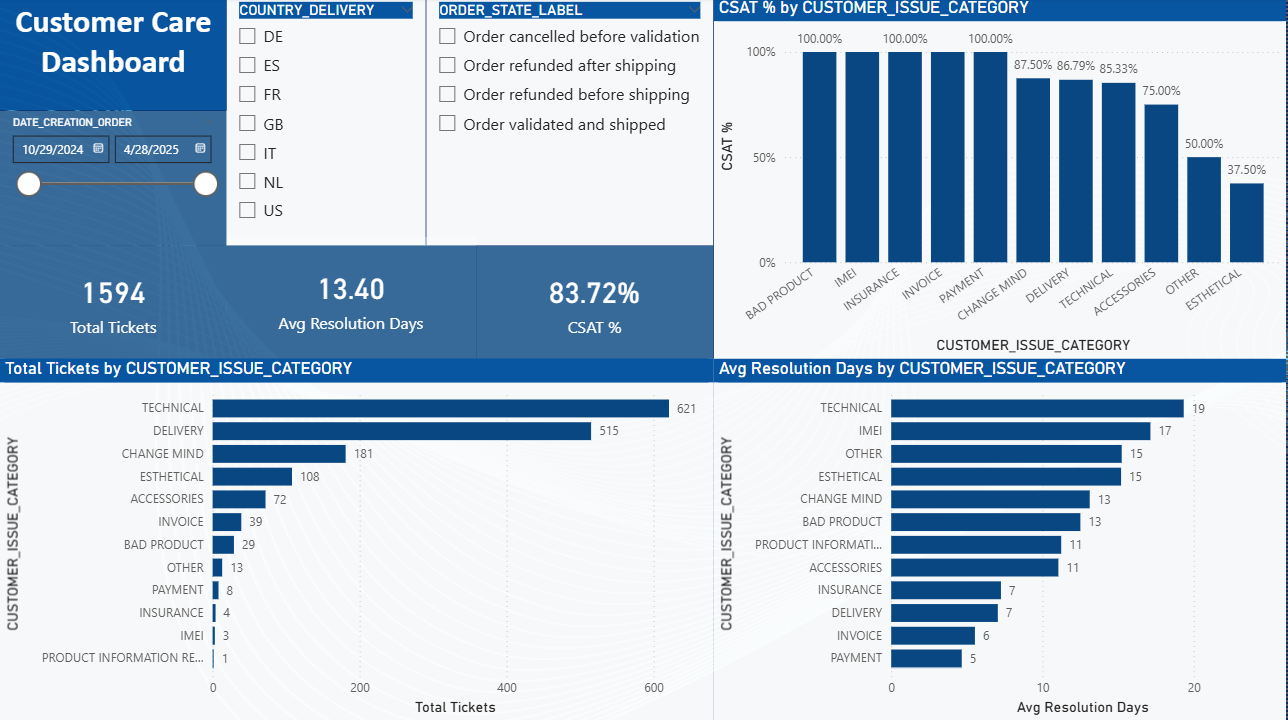

The page's visual inventory and layout, read from the dashboard file:
{"tool":"powerbi","page":{"name":"Customer Care Dashboard","canvas":[1280,720],"ordinal":1},"visuals":[{"type":"card","fields":{"Values":["dim_products.Total Tickets"]},"box":[0,247.1,225.7,112.9],"z":0},{"type":"card","fields":{"Values":["dim_products.Avg Resolution Days"]},"box":[225.7,238.6,248.6,121.4],"z":1000},{"type":"card","fields":{"Values":["dim_products.CSAT %"]},"box":[474.3,247.1,235.7,112.9],"z":2000},{"type":"clusteredBarChart","fields":{"Category":["fact_help_requests.CUSTOMER_ISSUE_CATEGORY"],"Y":["dim_products.Total Tickets"]},"box":[0,360,710,360],"z":3000},{"type":"clusteredBarChart","fields":{"Category":["fact_help_requests.CUSTOMER_ISSUE_CATEGORY"],"Y":["dim_products.Avg Resolution Days"]},"box":[710,360,570,360],"z":4000},{"type":"clusteredColumnChart","fields":{"Category":["fact_help_requests.CUSTOMER_ISSUE_CATEGORY"],"Y":["dim_products.CSAT %"]},"box":[710,0,570,360],"z":5000},{"type":"slicer","fields":{"Values":["fact_orders.DATE_CREATION_ORDER"]},"box":[0,112.9,225.7,134.3],"z":6000},{"type":"slicer","fields":{"Values":["fact_orders.COUNTRY_DELIVERY"]},"box":[225.7,0,198.6,247.1],"z":7000},{"type":"slicer","fields":{"Values":["fact_orders.ORDER_STATE_LABEL"]},"box":[424.3,0,285.7,247.1],"z":8000},{"type":"textbox","box":[0,0,225.7,112.9],"z":9000}]}

Visuals, with their boxes in screenshot pixels (x1, y1, x2, y2), scaled from the page's 1280x720 canvas onto the 1288x720 screenshot:
card - dim_products.Total Tickets: [left=0, top=247, right=227, bottom=360]
card - dim_products.Avg Resolution Days: [left=227, top=239, right=477, bottom=360]
card - dim_products.CSAT %: [left=477, top=247, right=714, bottom=360]
clusteredBarChart - fact_help_requests.CUSTOMER_ISSUE_CATEGORY x dim_products.Total Tickets: [left=0, top=360, right=714, bottom=719]
clusteredBarChart - fact_help_requests.CUSTOMER_ISSUE_CATEGORY x dim_products.Avg Resolution Days: [left=714, top=360, right=1287, bottom=719]
clusteredColumnChart - fact_help_requests.CUSTOMER_ISSUE_CATEGORY x dim_products.CSAT %: [left=714, top=0, right=1287, bottom=360]
slicer - fact_orders.DATE_CREATION_ORDER: [left=0, top=113, right=227, bottom=247]
slicer - fact_orders.COUNTRY_DELIVERY: [left=227, top=0, right=427, bottom=247]
slicer - fact_orders.ORDER_STATE_LABEL: [left=427, top=0, right=714, bottom=247]
textbox: [left=0, top=0, right=227, bottom=113]
